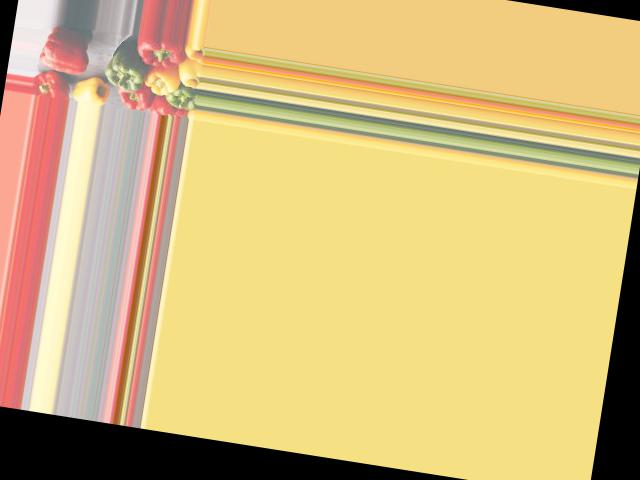bell_pepper: (30, 69, 72, 97)
